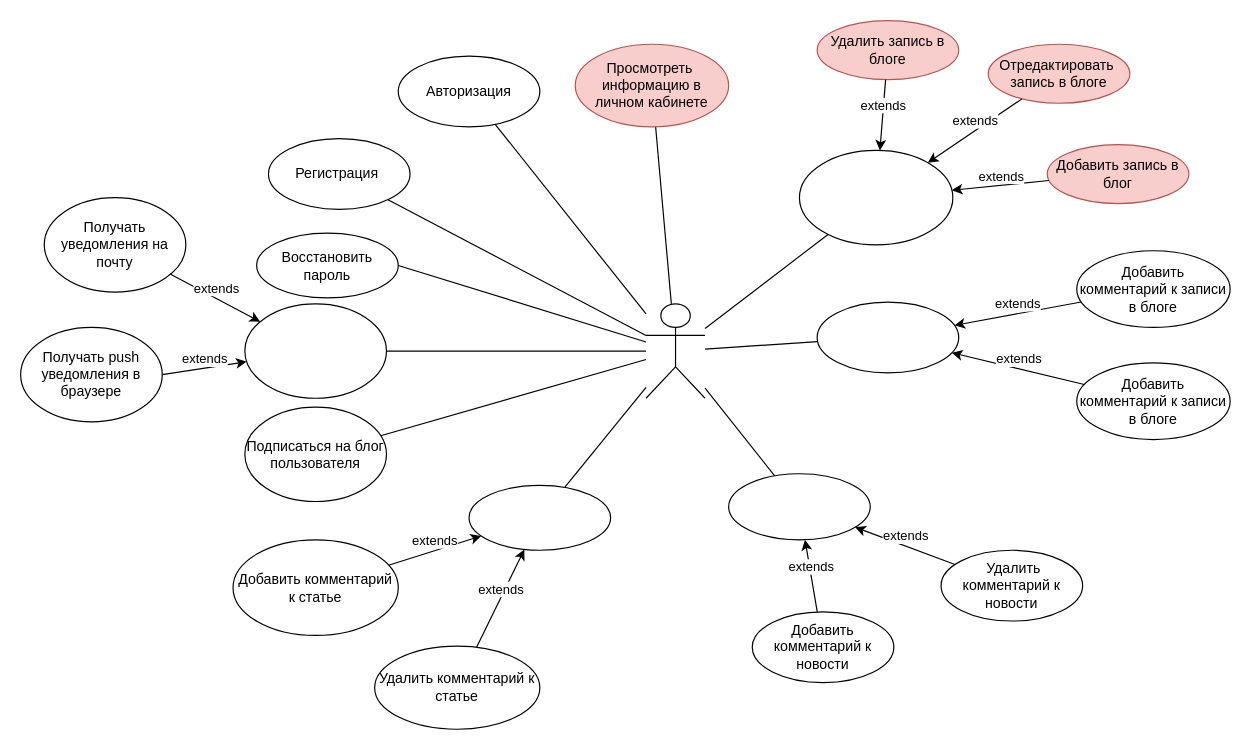
Image size: 1251x750. Some labels were removed from this diagram. Each missing label, with the centre of its shape:
"Получать уведомления" goes at (315,350).
"Пользователь" goes at (675,350).
"Просмотр записей в своём блоге" goes at (875,197).
"Просмотр записи в блоге" goes at (887,337).
"Просмотр новости" goes at (798,506).
"Просмотр статьи" goes at (539,517).
